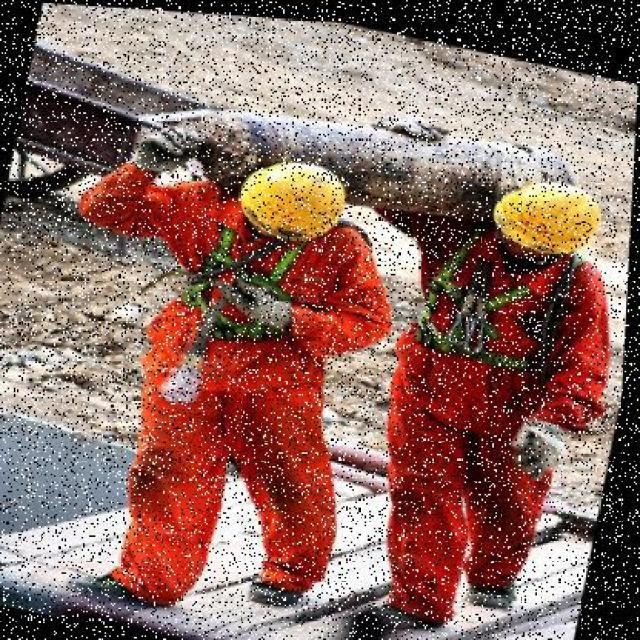helmet: (223, 140, 359, 252), (482, 156, 611, 264)
vest: (137, 208, 388, 420), (388, 225, 598, 469)
